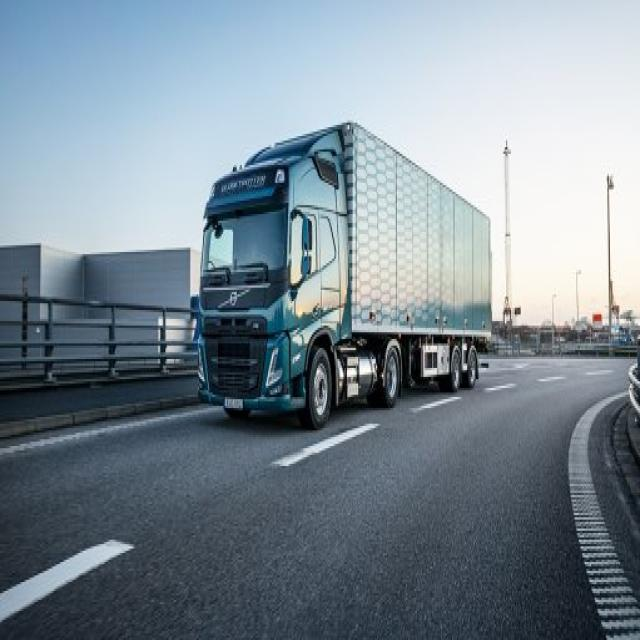Heavy Duty Truck: (193, 120, 503, 432)
